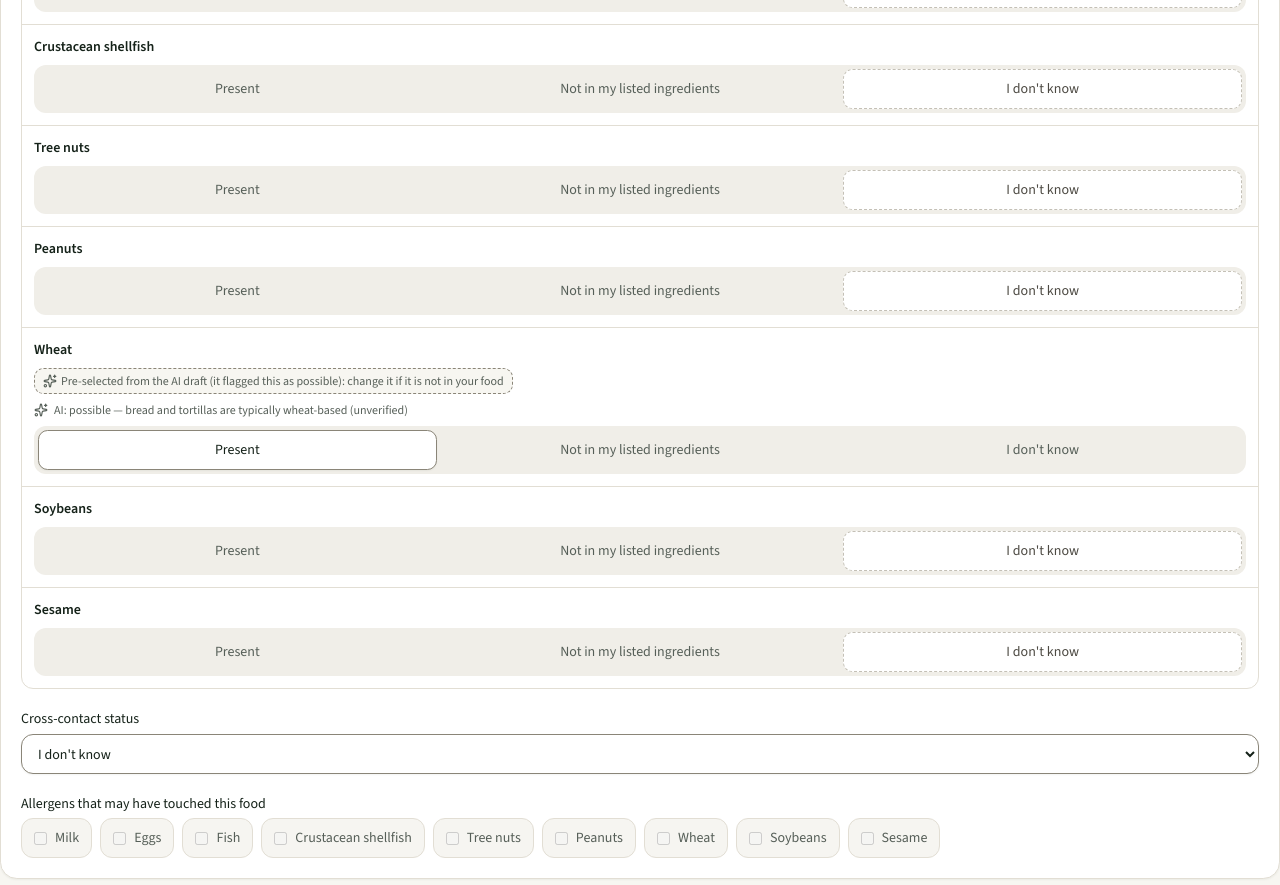
it: the donor stays in control › changing a pre-selected allergen removes its tag
(page scrolled)
Click the 5th radio button labelled "Not in my listed ingredients".
click(640, 450)  # box x1=560 y1=440 x2=720 y2=459
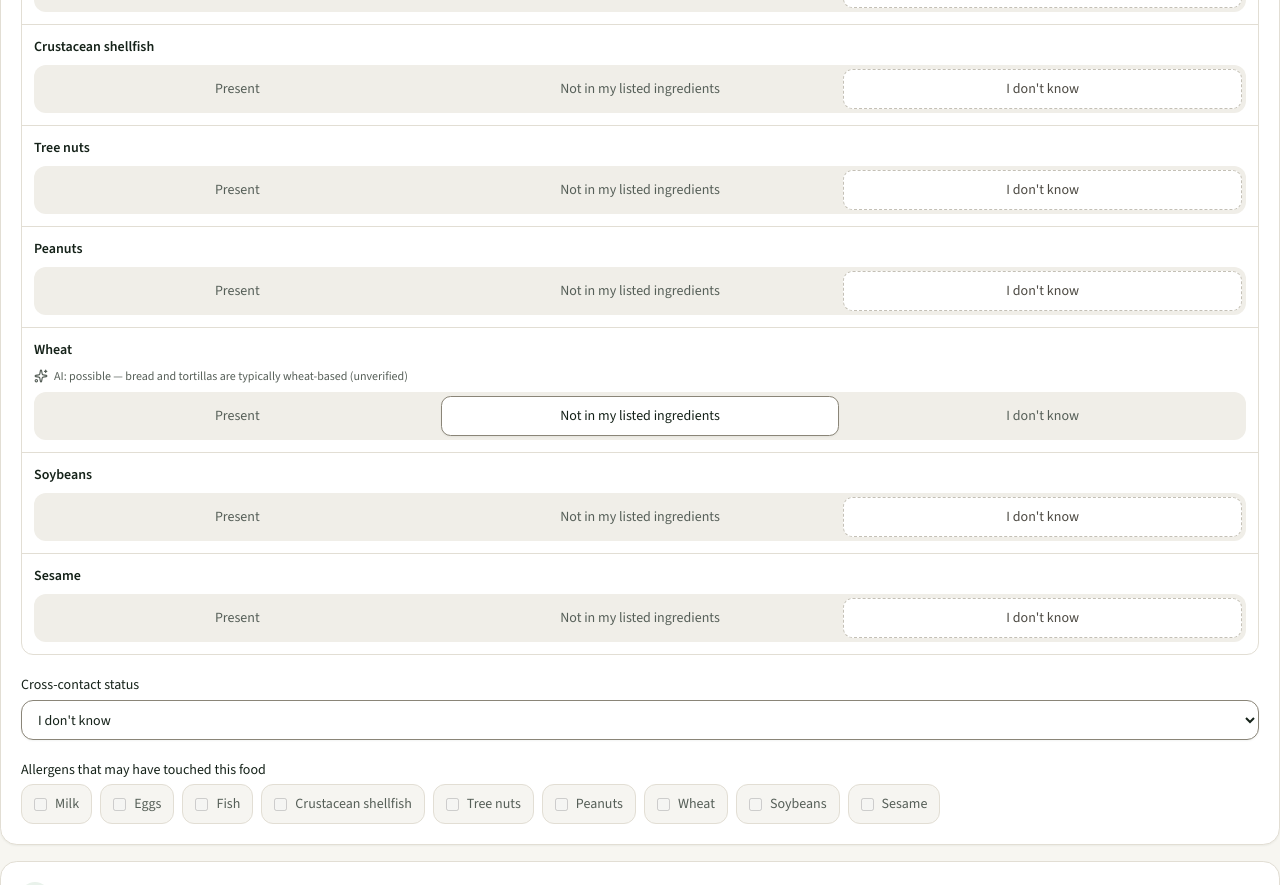
Expected: the element with test id "ai-filled-allergen-wheat" is gone
